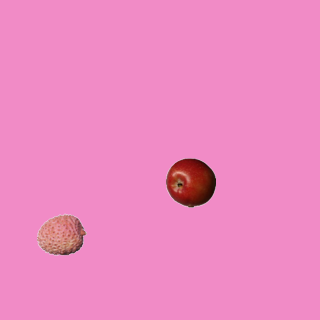Apple Braeburn: (165, 157, 215, 207)
Lychee: (36, 209, 86, 259)
